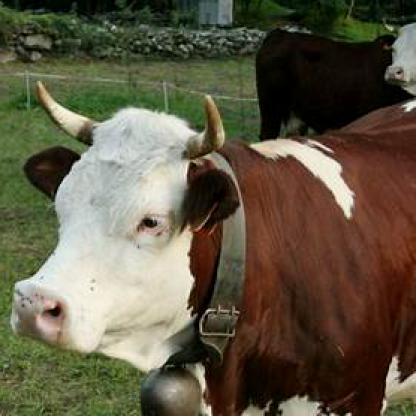cow: (7, 76, 414, 414), (253, 19, 414, 123)
